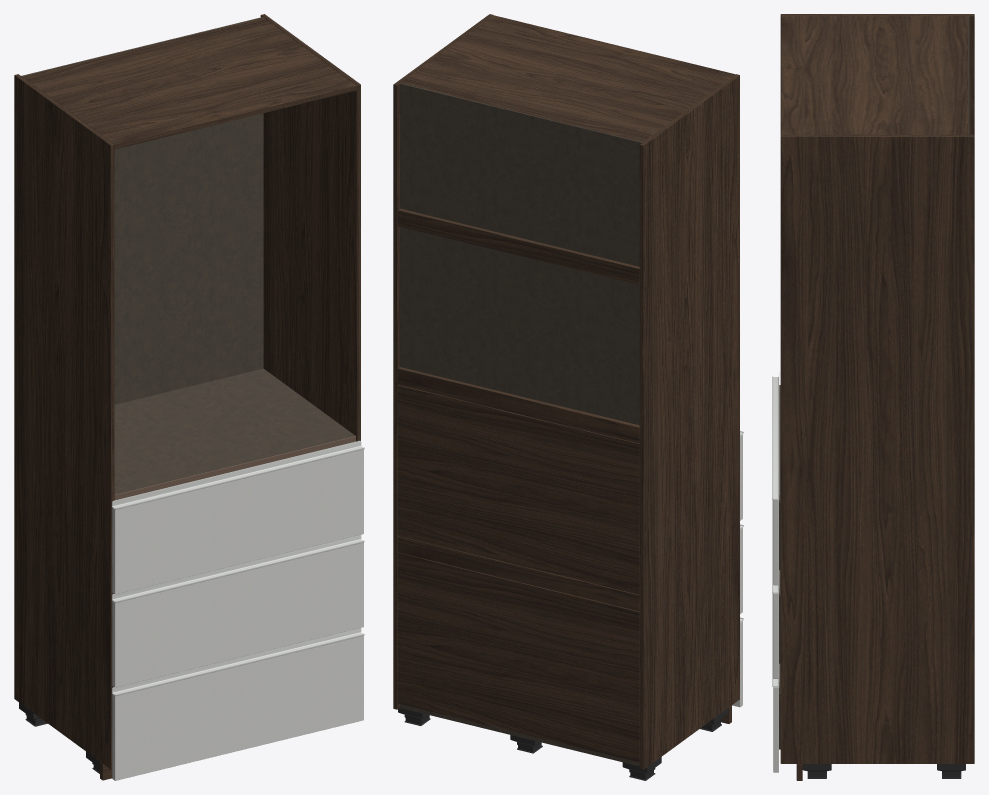
The picture shows the model from 3 angles, left to right: view 1: azimuth 30°, elevation 25°; view 2: azimuth 150°, elevation 25°; view 3: azimuth 270°, elevation 25°; orthographic projection.
Visible parts, largest first — view 1: HK1001192; view 2: HK1001192; view 3: HK1001192.
Boxes of the visible parts, x1,y1,x2,y2 form: HK1001192: (14,14,364,780); HK1001192: (393,14,743,780); HK1001192: (772,14,974,780).
Size of the model in its own units: 0.9 by 2.2 by 0.6256.
Materials: 8 (7 with a texture image).
